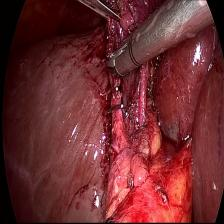Clipper: (101, 36, 144, 80)
Grasper: (69, 0, 124, 29)
